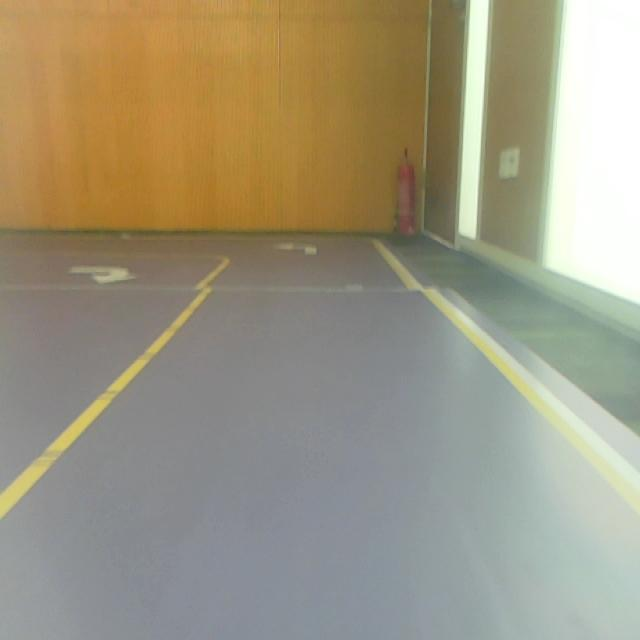left_lane: (0, 260, 229, 520)
right_lane: (377, 240, 640, 512)
